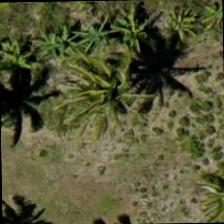Kelapa_Sawit: (66, 38, 158, 130)
